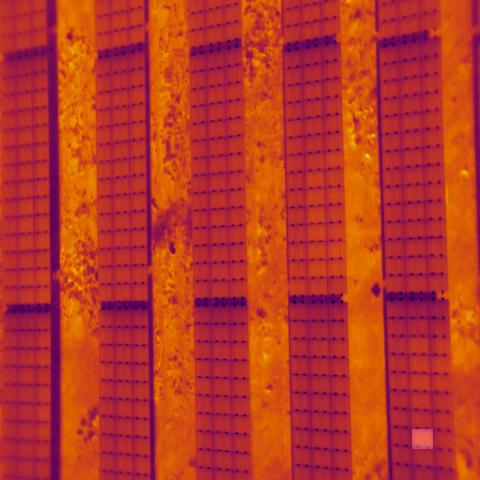fault: (412, 429, 433, 449)
